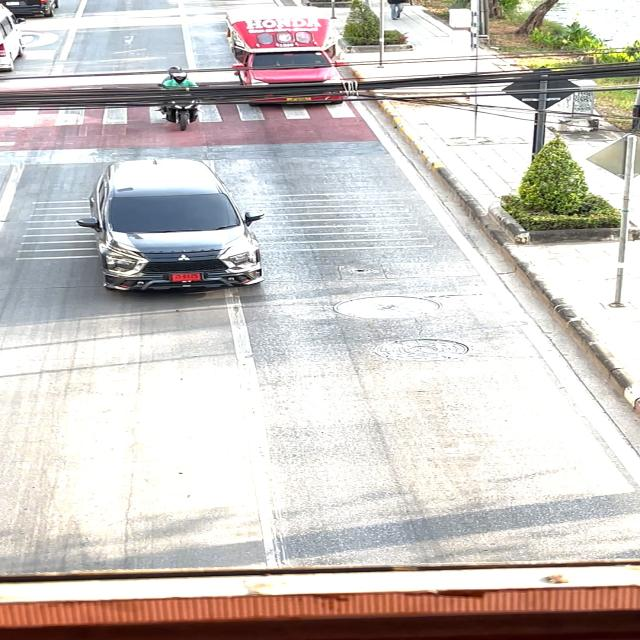car: (69, 148, 293, 314), (211, 0, 369, 118)
